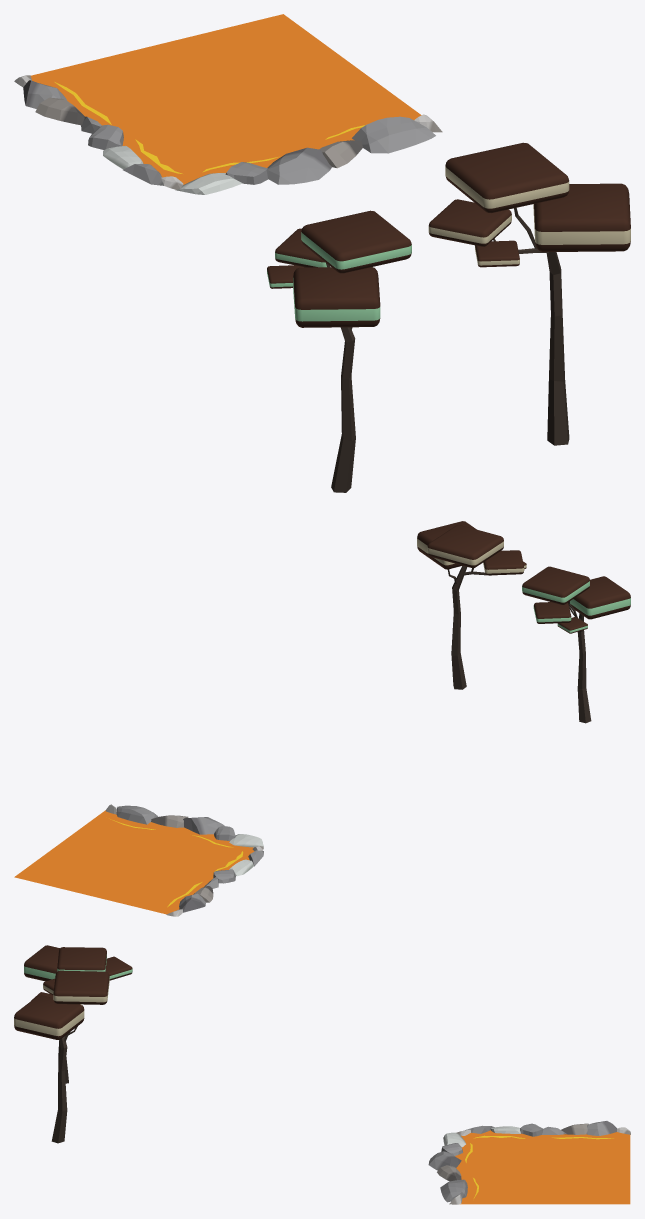
The model's file is tree_mint.glb.
3 renders of one model, top to bottom at view 1: azimuth 30°, elevation 25°; view 2: azimuth 150°, elevation 25°; view 3: azimuth 270°, elevation 25°, orthographic. The views are drawn at different scales.
Parts seen in each view (by area): view 1: Water, TreeTall_04, TreeTall_05; view 2: Water, TreeTall_05, TreeTall_04; view 3: Water, TreeTall_04, TreeTall_05.
Boxes of the visible parts, x1,y1,x2,y2 form: Water: (14, 14, 442, 194); TreeTall_04: (428, 142, 630, 445); TreeTall_05: (267, 210, 411, 492); Water: (14, 804, 263, 916); TreeTall_05: (522, 566, 630, 723); TreeTall_04: (417, 521, 526, 689); Water: (428, 1121, 630, 1204); TreeTall_04: (14, 970, 109, 1143); TreeTall_05: (24, 945, 132, 1083).
Size of what is drawn, in the model's own units: 12.14 by 6.18 by 22.8.
Materials: 1 (1 with a texture image).
